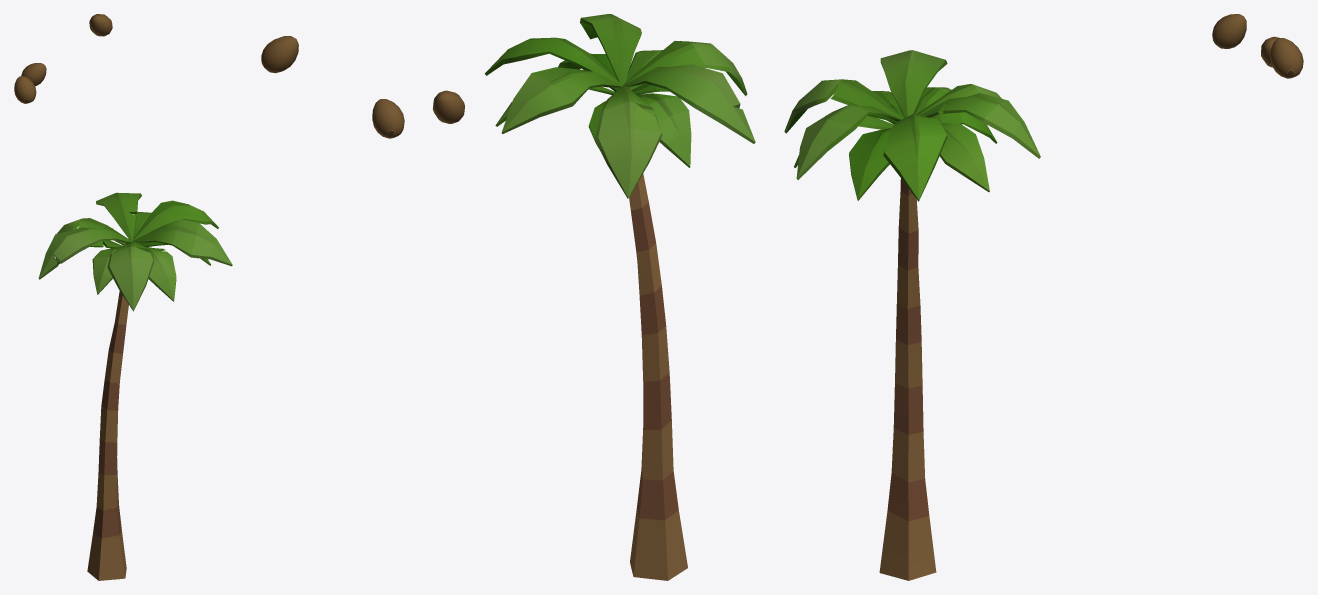
File: Anim_PalmTree_Colour.fbx
The picture shows the model from 3 angles, left to right: view 1: azimuth 30°, elevation 25°; view 2: azimuth 150°, elevation 25°; view 3: azimuth 270°, elevation 25°; orthographic projection. The views are drawn at different scales.
Parts seen in each view (by area): view 1: Anim_PalmTree_Colour, Prop_Coconut, Prop_Coconut2, Prop_Coconut1; view 2: Anim_PalmTree_Colour, Prop_Coconut2, Prop_Coconut1, Prop_Coconut; view 3: Anim_PalmTree_Colour, Prop_Coconut2, Prop_Coconut.
Part boxes in pixels (bbox=[...]): Anim_PalmTree_Colour: bbox=[38, 192, 232, 580]; Prop_Coconut: bbox=[14, 76, 36, 103]; Prop_Coconut2: bbox=[89, 14, 112, 36]; Prop_Coconut1: bbox=[21, 63, 46, 86]; Anim_PalmTree_Colour: bbox=[485, 14, 755, 580]; Prop_Coconut2: bbox=[261, 36, 298, 73]; Prop_Coconut1: bbox=[372, 99, 404, 138]; Prop_Coconut: bbox=[433, 90, 464, 123]; Anim_PalmTree_Colour: bbox=[784, 50, 1040, 580]; Prop_Coconut2: bbox=[1270, 38, 1303, 78]; Prop_Coconut: bbox=[1212, 14, 1246, 48].
Bounding box in the file's own units: 6.12 × 12.29 × 9.43.
2 materials, 1 textured.
